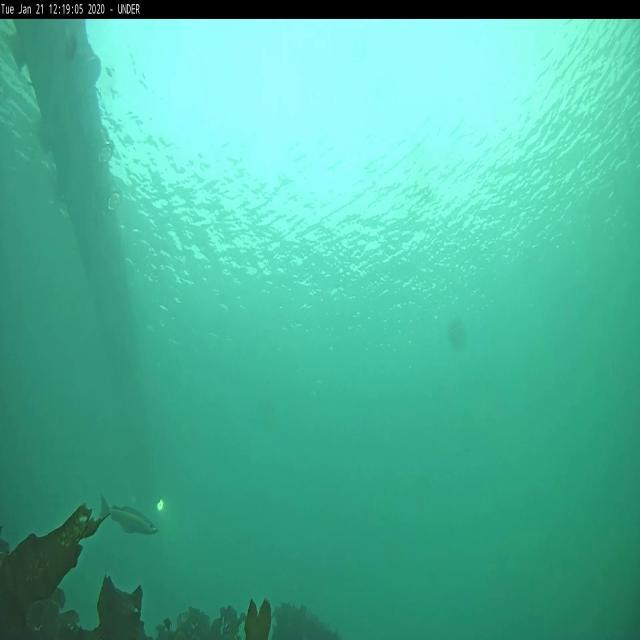fish: (98, 494, 162, 536)
